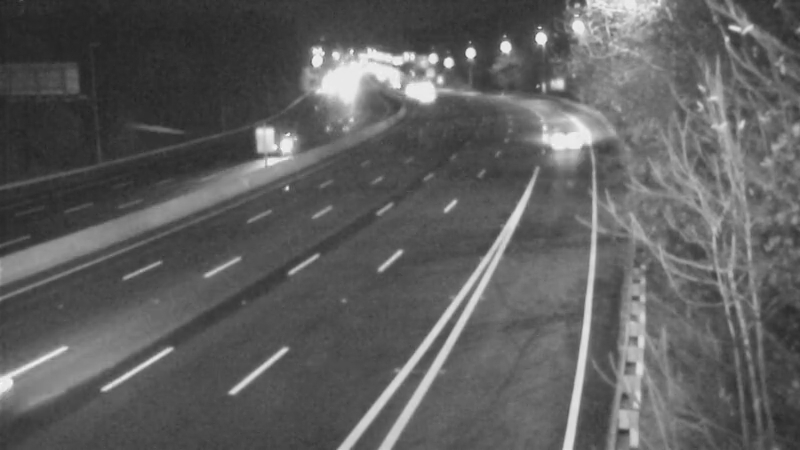vehicle: (401, 70, 451, 120), (536, 110, 586, 160), (256, 118, 306, 168)
